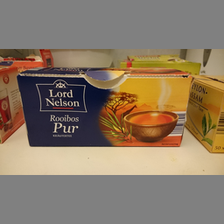tea: (17, 66, 190, 148)
